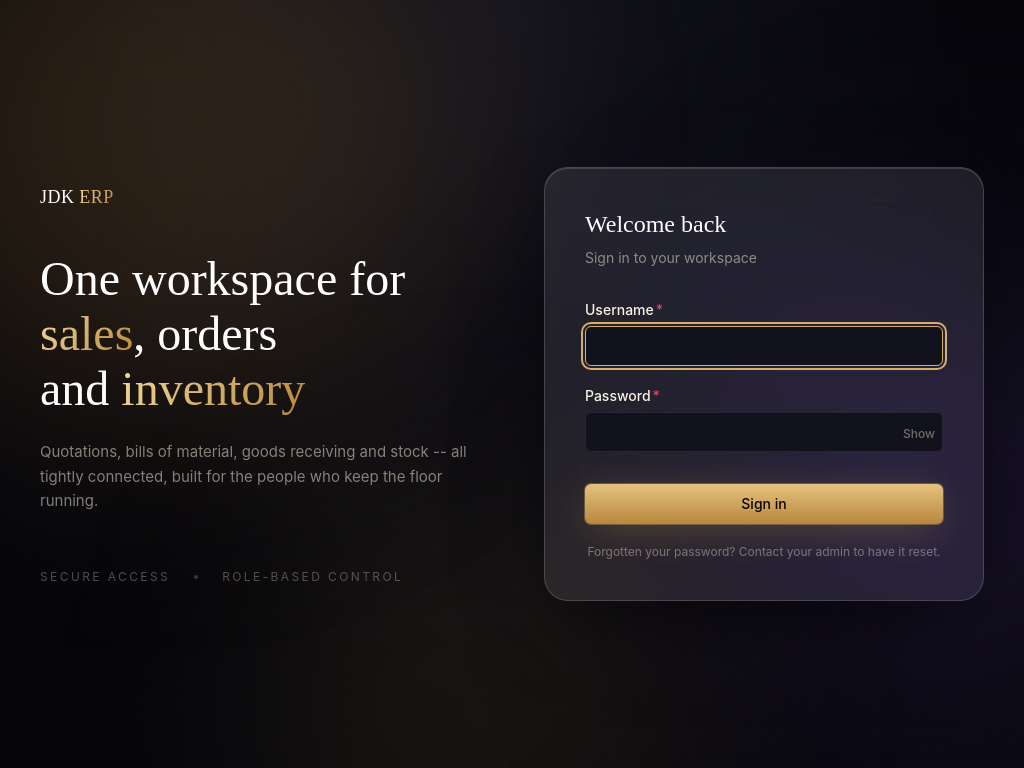
LoginPage › shows the backend error message on failed login without redirecting
The width and height of the screenshot is (1024, 768).
Type "ada" into the field labelled "Username" at (764, 346), box x1=585 y1=326 x2=943 y2=366
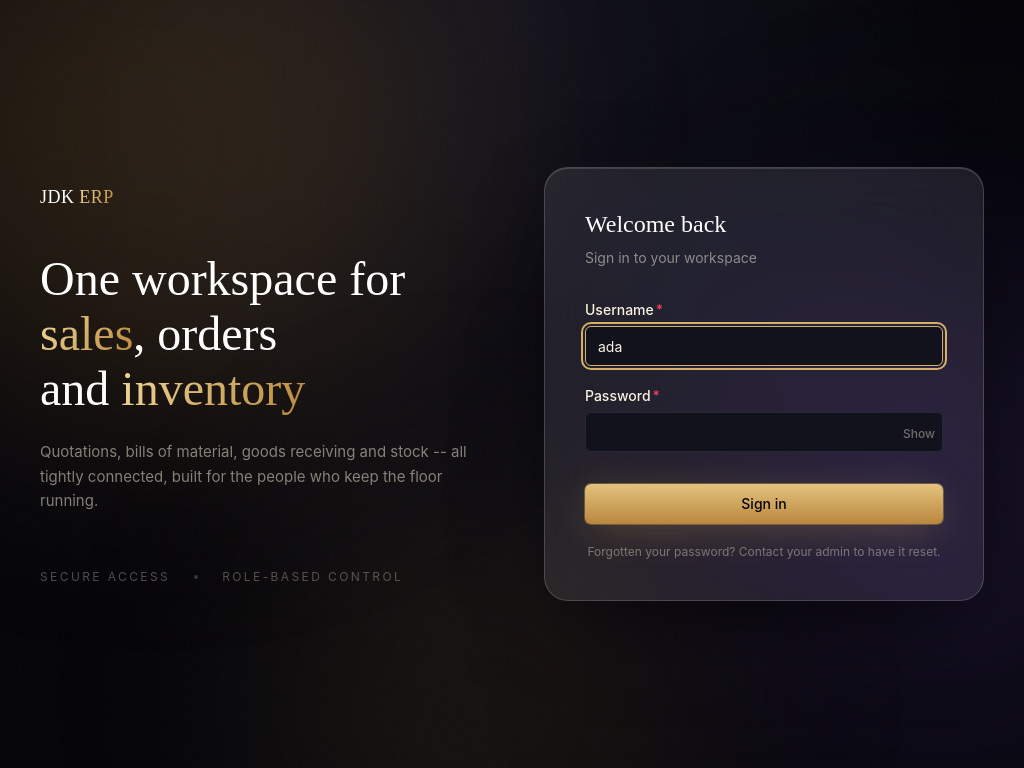
Type "wrong" into the password field labelled "Password" at (764, 432), box x1=585 y1=412 x2=943 y2=452
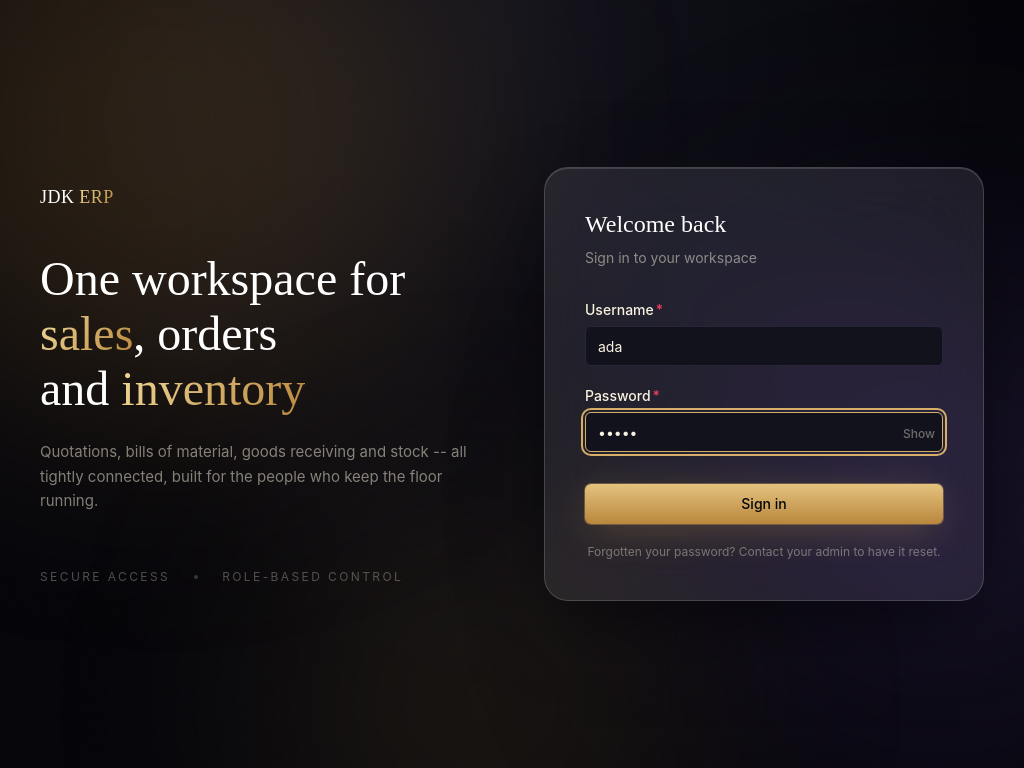
Click the button "Sign in" at (764, 504), box x1=585 y1=484 x2=943 y2=524
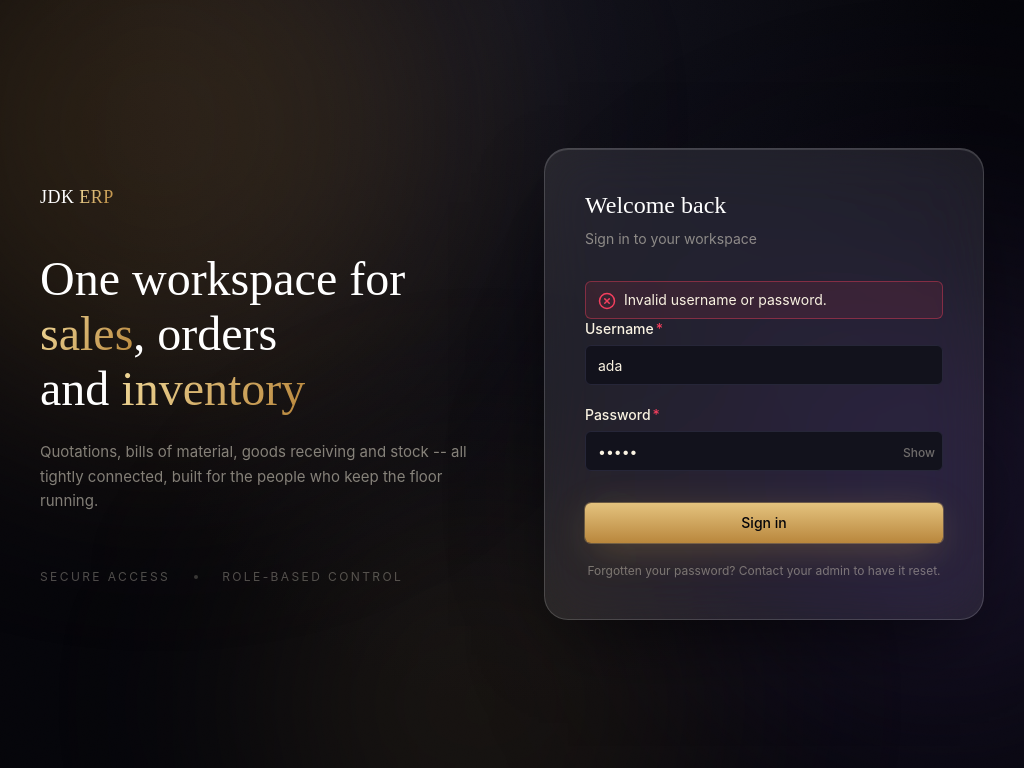
Now the text "Invalid username or password." is shown, box x1=624 y1=290 x2=827 y2=310
